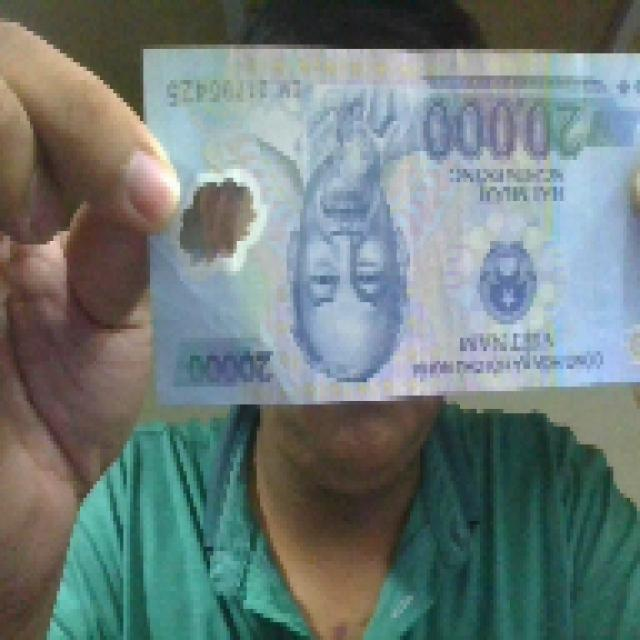20 000 VND: (136, 40, 636, 409)
